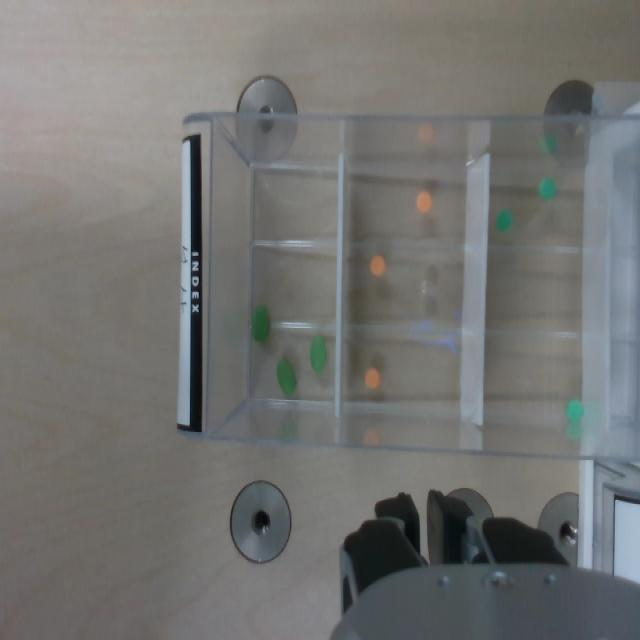famodine: (566, 398, 584, 420), (496, 209, 513, 229), (540, 178, 557, 197)
otillen_tab: (251, 304, 270, 343), (276, 359, 296, 396), (251, 303, 270, 341), (278, 361, 296, 395), (310, 335, 326, 372), (311, 336, 327, 370)
samsung_octylonium_tab: (416, 192, 432, 211), (371, 255, 385, 276), (365, 368, 379, 388)
